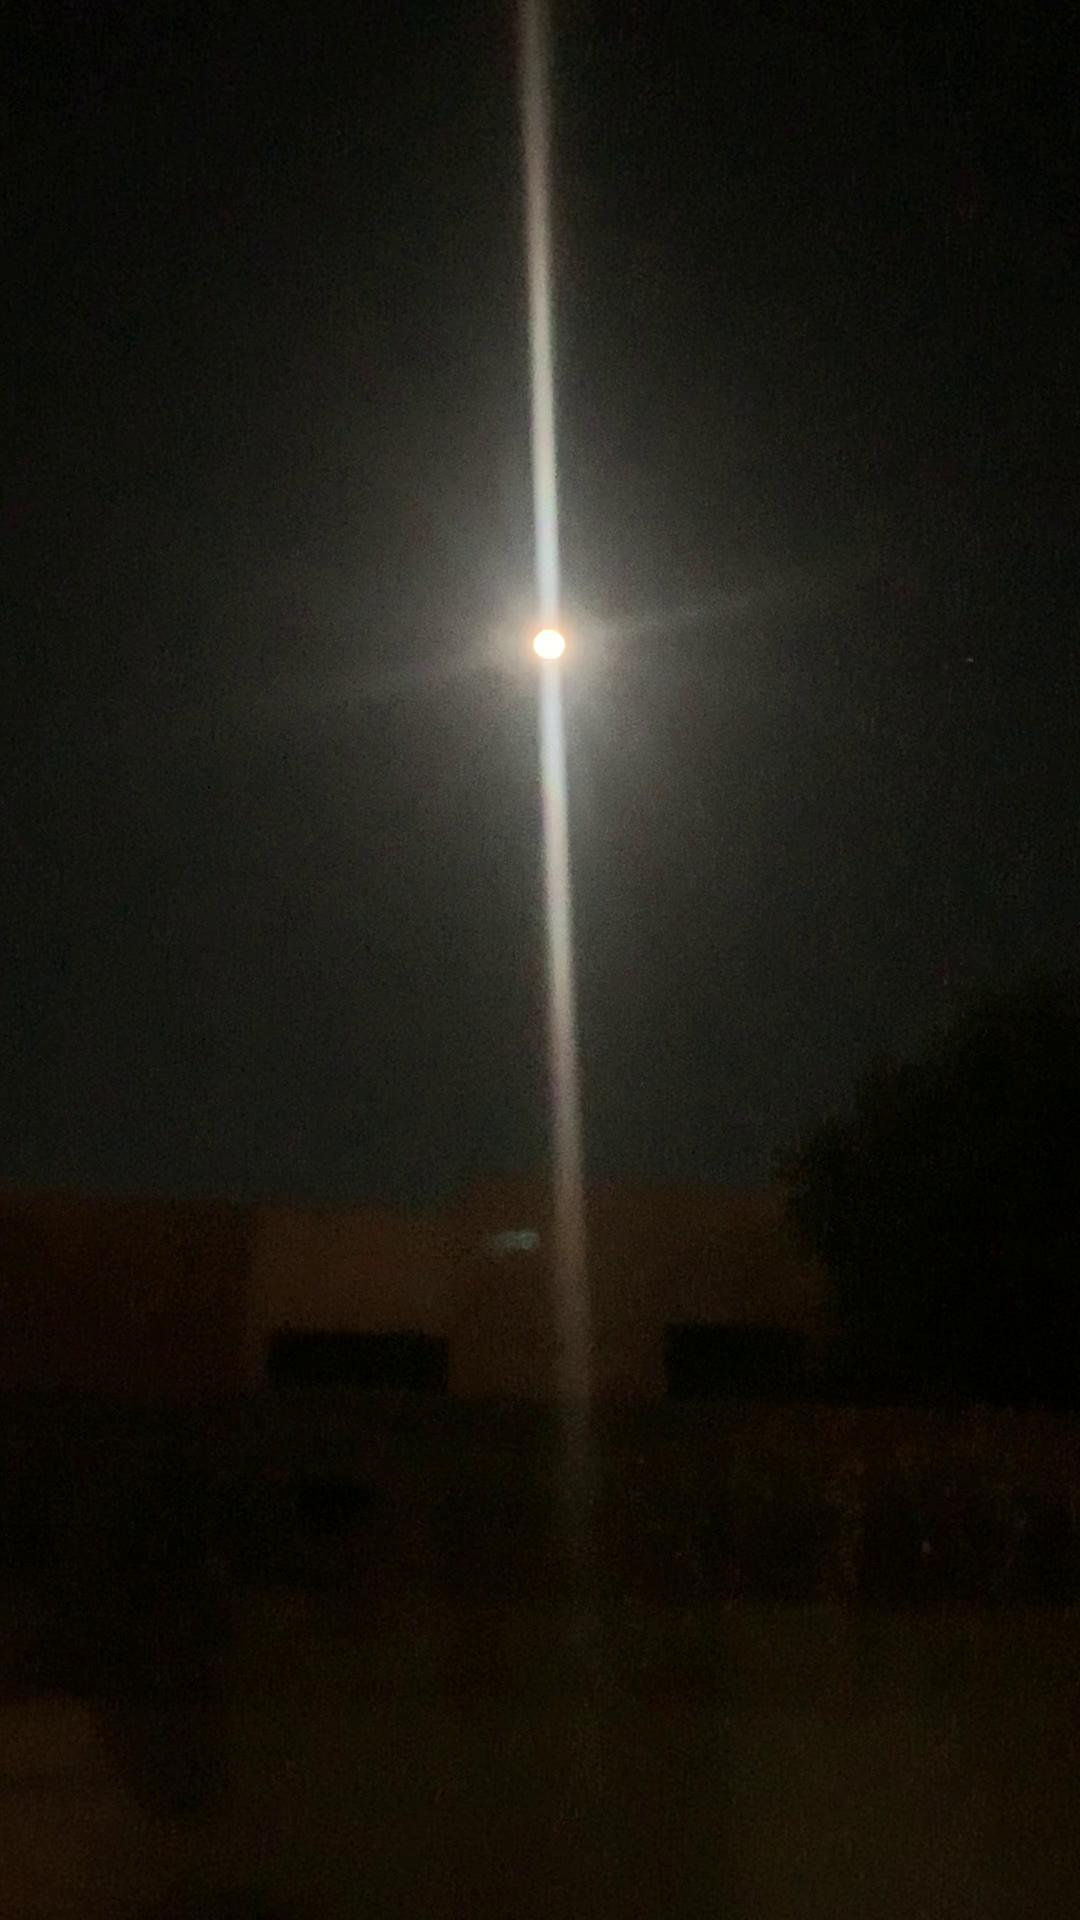moon: (496, 592, 601, 691)
